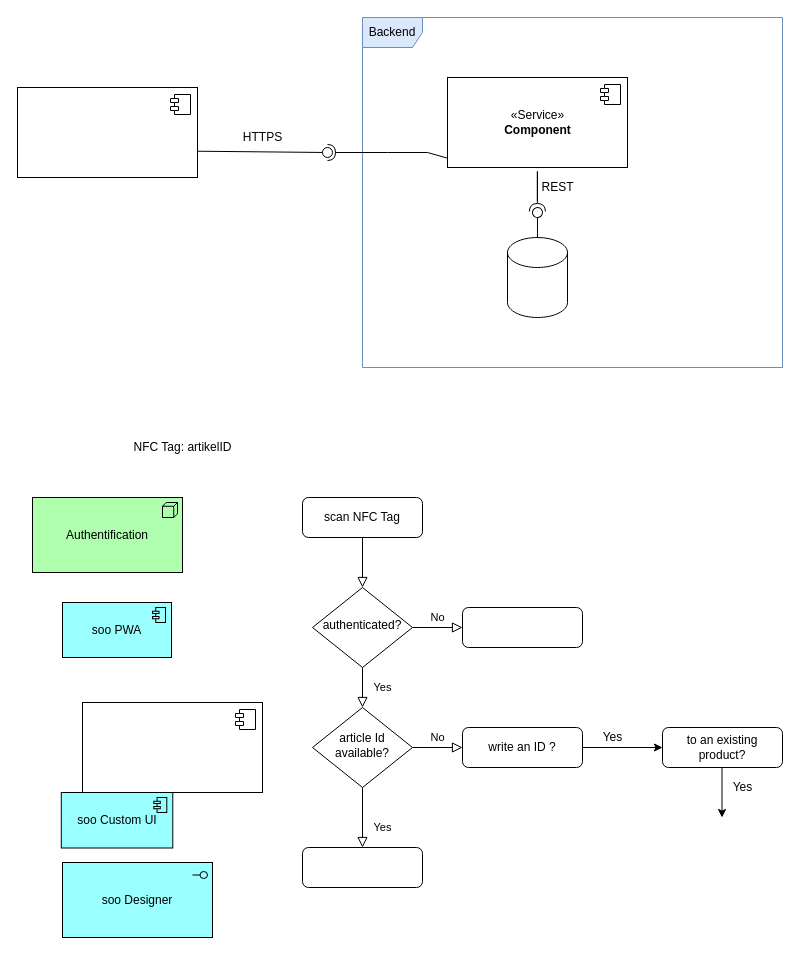
Some shapes in this 800 by 955 pixel diagram are drawn without their labels. Each missing label, with the centre of its shape:
"Datenbank" goes at point (537, 277).
"Meldung" goes at point (522, 627).
"read/write data" goes at point (362, 867).
"«Frontend» soo" goes at point (107, 132).
"«Frontend» Web NFC (Chrome, Opera Android, Samsung Internet)" goes at point (172, 747).
